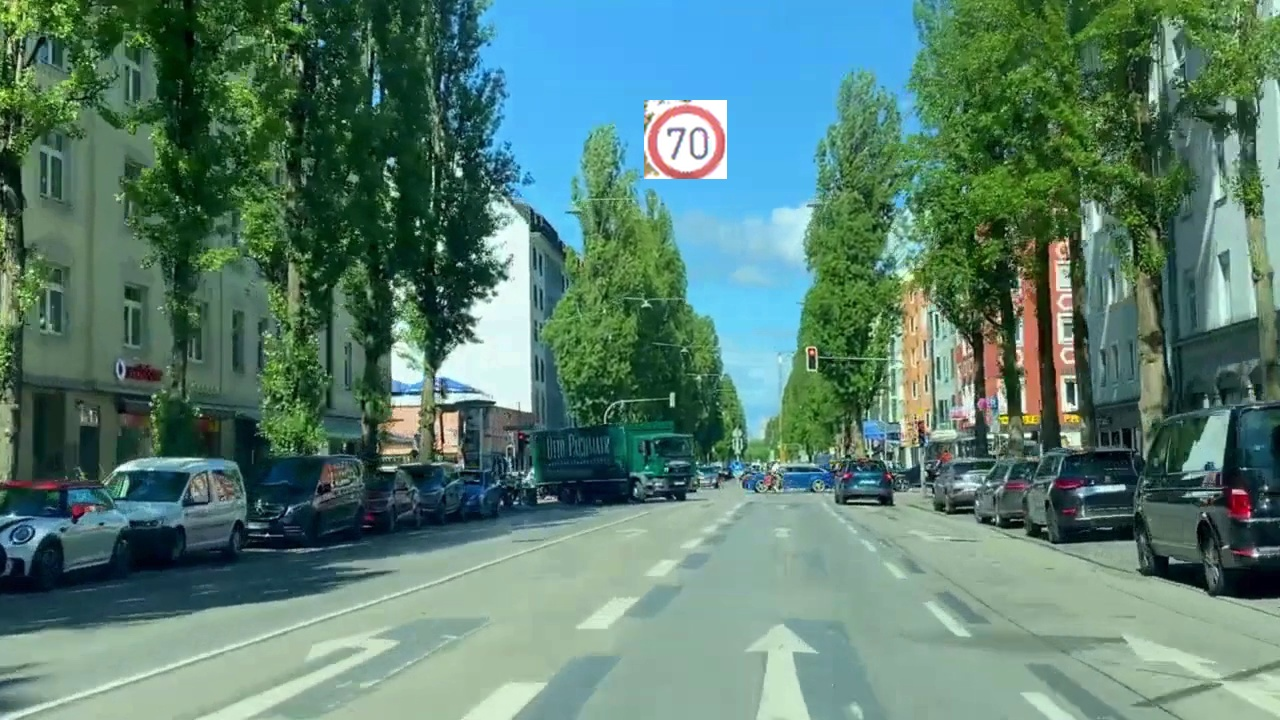Speed 70: (644, 100, 727, 179)
